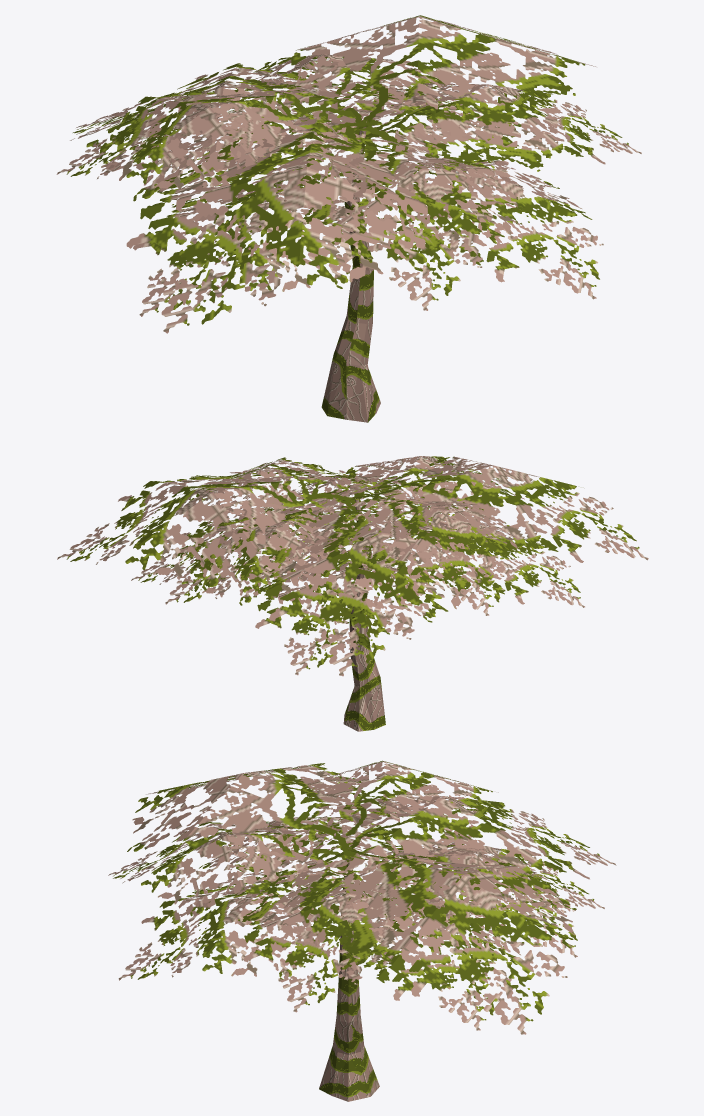
Rendered from TreeLeaf_01.obj.
3 views of the same model, one above another, from view 1: azimuth 30°, elevation 25°; view 2: azimuth 150°, elevation 25°; view 3: azimuth 270°, elevation 25° (orthographic). The views are drawn at different scales.
Parts seen in each view (by area): view 1: TreeLeaf_01_Circle; view 2: TreeLeaf_01_Circle; view 3: TreeLeaf_01_Circle.
Boxes of the visible parts, box(x1,y1,x2,y2) form: TreeLeaf_01_Circle: box(56, 15, 641, 422); TreeLeaf_01_Circle: box(57, 456, 648, 731); TreeLeaf_01_Circle: box(108, 760, 616, 1101).
Bounding box in the file's own units: 93.08 × 40.8 × 90.46.
